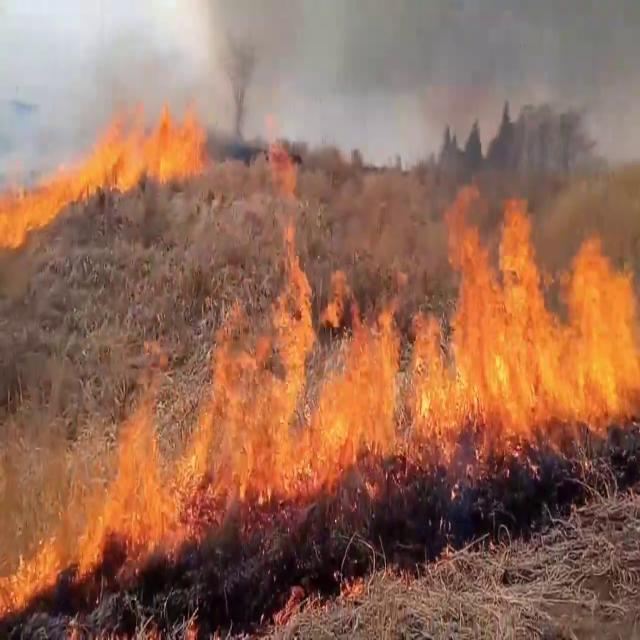Fire: (42, 183, 640, 578), (1, 81, 210, 235)
Smoke: (347, 0, 640, 212)
